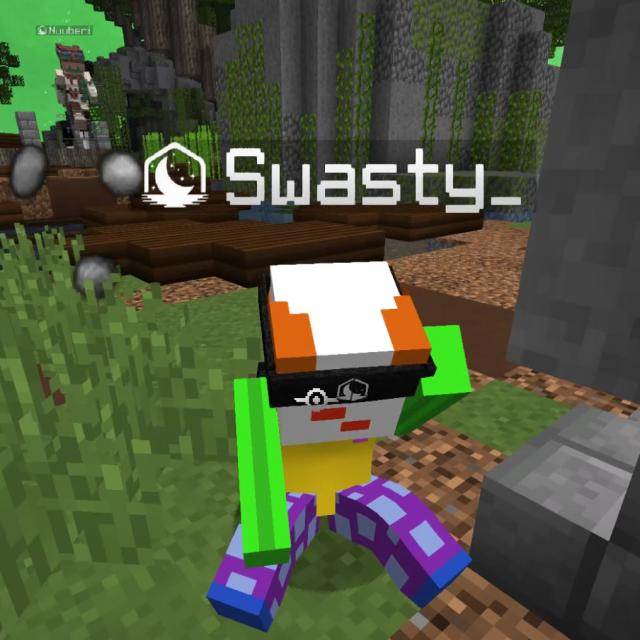Player: (208, 263, 471, 630), (53, 44, 100, 128)
